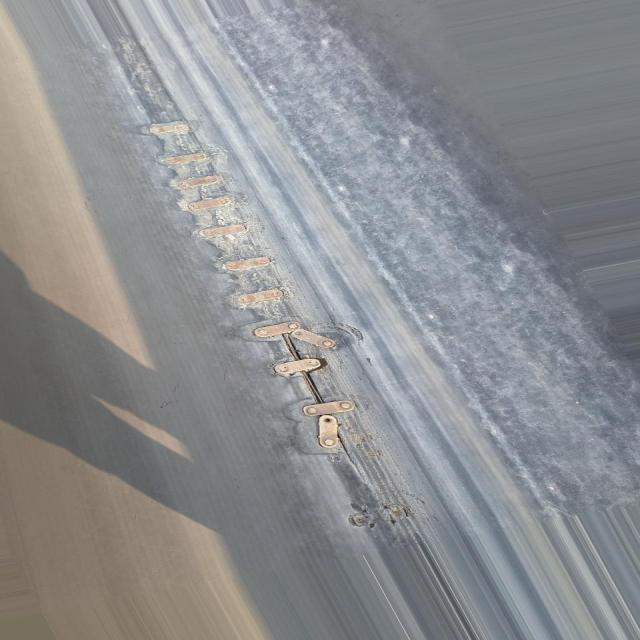patch work: (119, 97, 457, 545)
